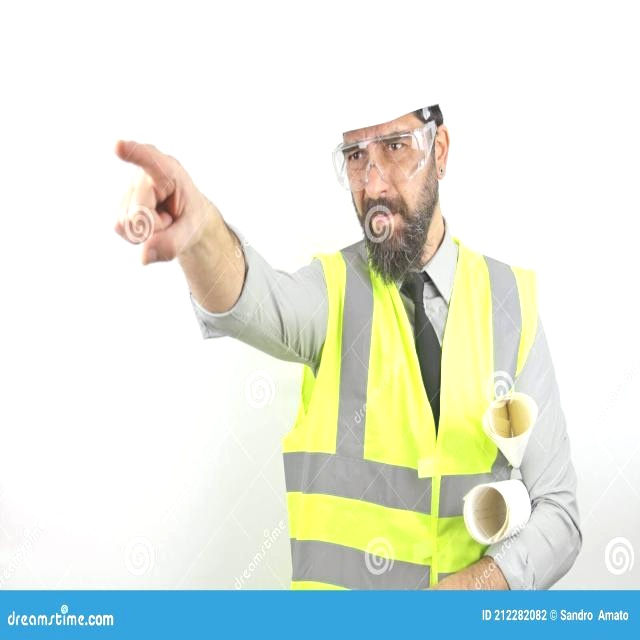goggles: (320, 135, 443, 191)
helmet: (309, 10, 461, 140)
vest: (297, 230, 535, 576)
